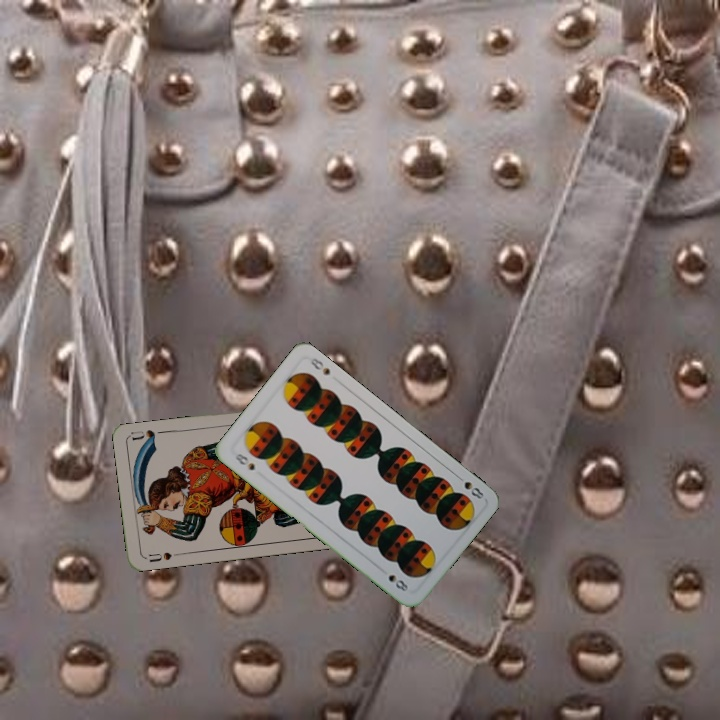S8: (451, 471, 486, 502), (228, 449, 257, 473)
SU: (141, 548, 182, 565)
